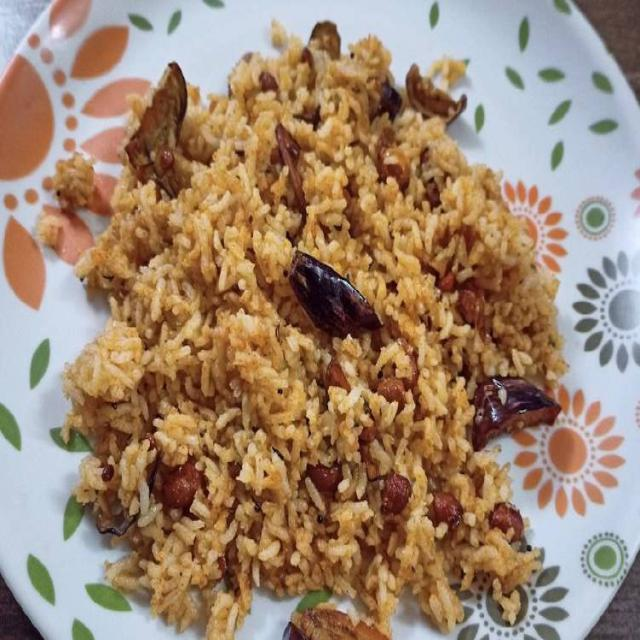vangi bath: (50, 10, 584, 640)
